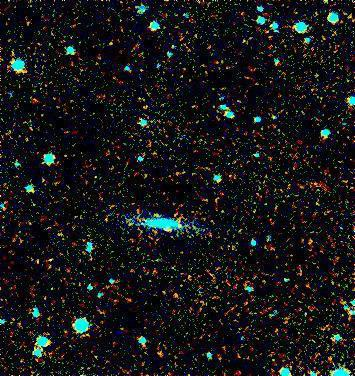star: (306, 0, 336, 20)
